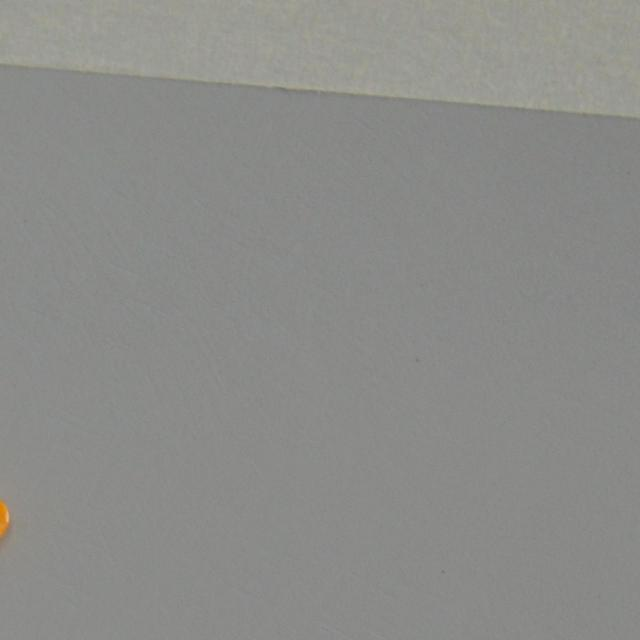dañado: (0, 452, 14, 568)
